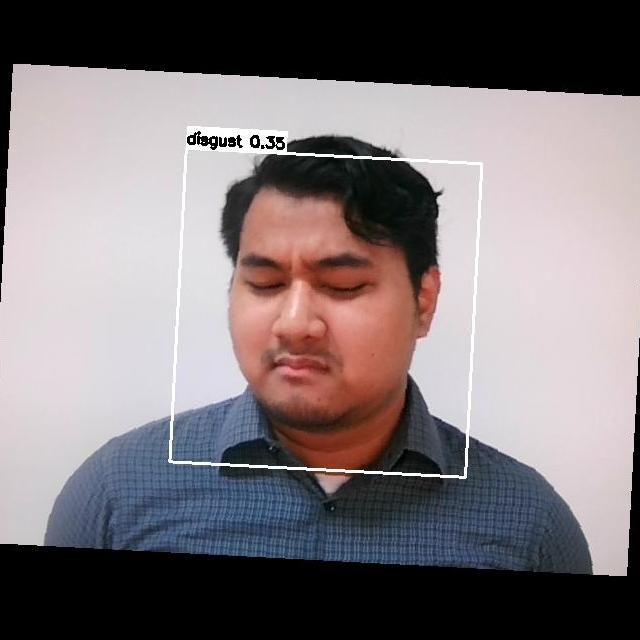Disgust: (226, 235, 404, 412)
